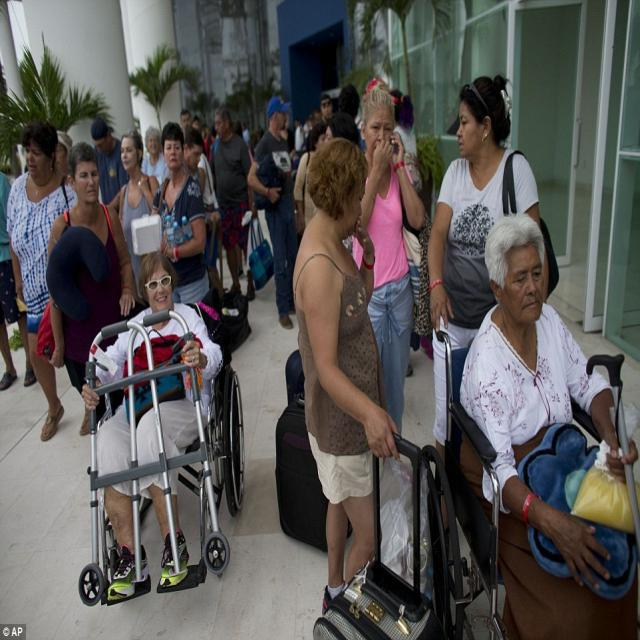body: (457, 209, 640, 640), (285, 130, 402, 639), (424, 70, 550, 535), (77, 247, 228, 605), (350, 73, 426, 439), (5, 119, 90, 442), (43, 140, 137, 426), (244, 90, 302, 330), (149, 119, 210, 308), (210, 106, 258, 303), (0, 169, 40, 391), (118, 128, 160, 299), (89, 115, 131, 216), (195, 140, 221, 296), (181, 126, 221, 226), (293, 120, 328, 234), (311, 81, 365, 153), (282, 105, 311, 179), (232, 107, 268, 162), (141, 124, 170, 191), (390, 89, 418, 156), (179, 99, 220, 142), (365, 73, 391, 99), (56, 132, 72, 169)
